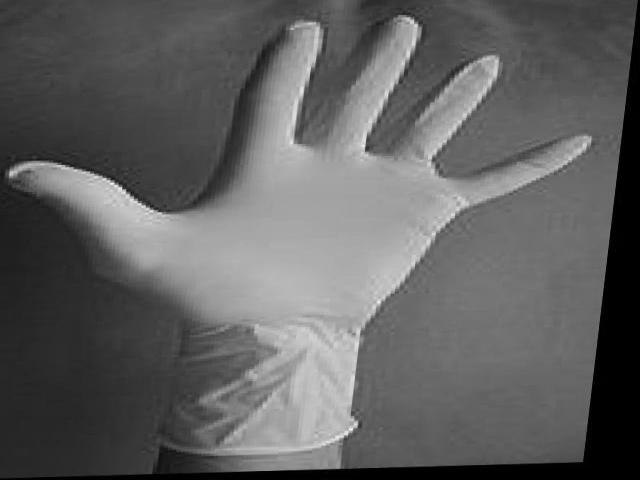gloved: (11, 18, 594, 308)
